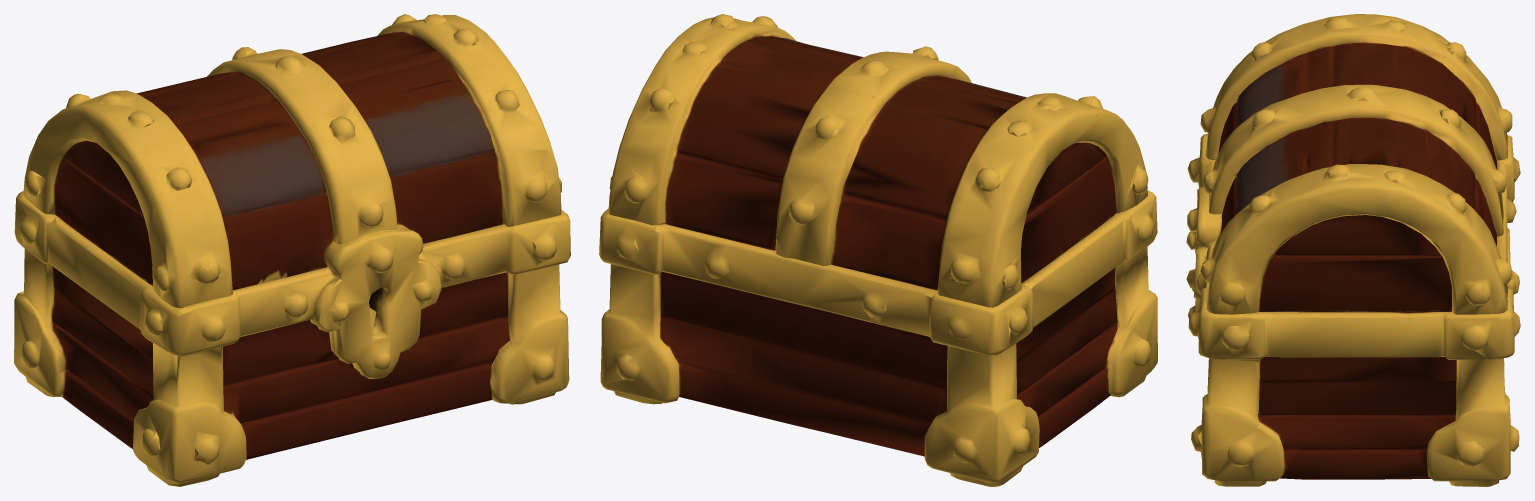
File: chest.glb
3 renders of one model, left to right at view 1: azimuth 30°, elevation 25°; view 2: azimuth 150°, elevation 25°; view 3: azimuth 270°, elevation 25°, orthographic. The views are drawn at different scales.
Parts seen in each view (by area): view 1: lid, chest; view 2: lid, chest; view 3: lid, chest.
Boxes of the visible parts, x1,y1,x2,y2 form: lid: (23,14,561,307); chest: (14,191,570,486); lid: (608,14,1148,307); chest: (599,190,1157,486); lid: (1200,14,1512,314); chest: (1186,134,1520,486).
Bounding box in the file's own units: 3.2 × 2.41 × 2.34.
2 materials, 2 textured.
